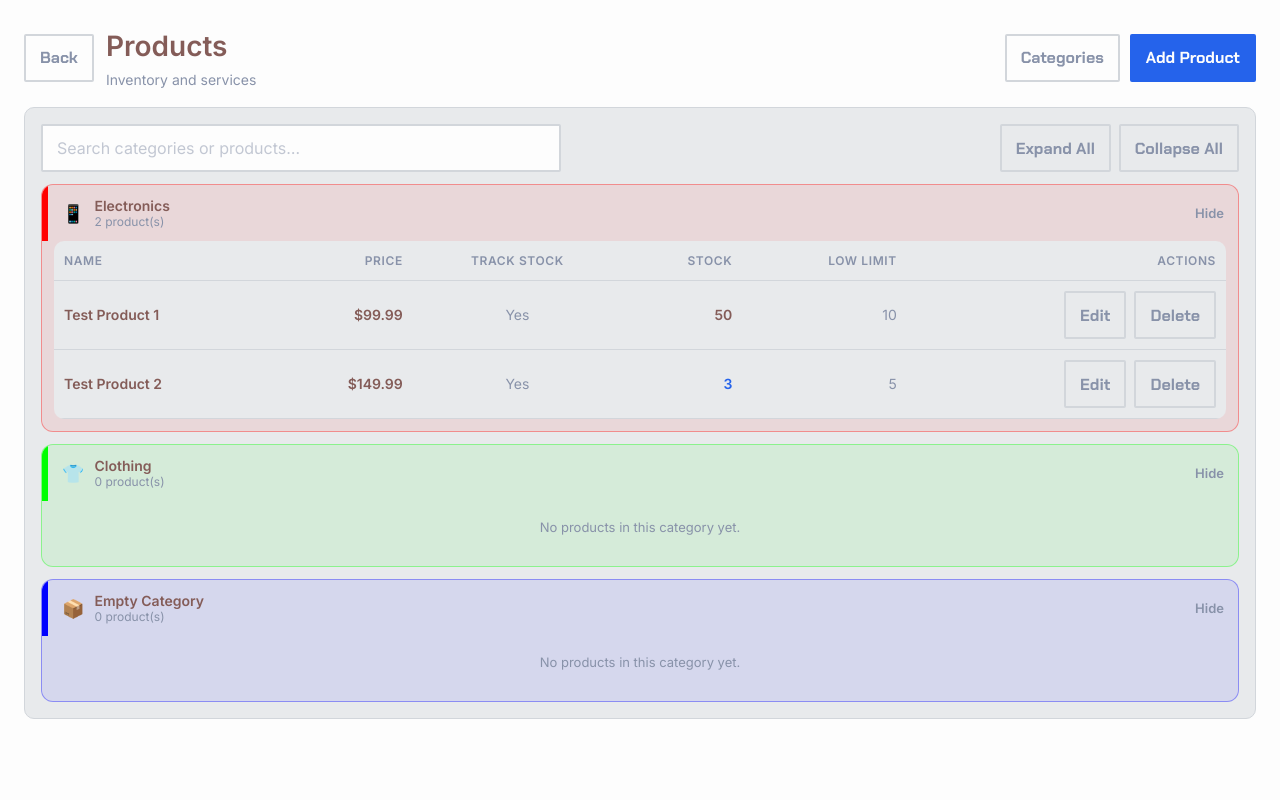
ProductsPage Component - Black Box Tests › Product Search & Filter › should show no results message when search has no matches
Type "NonExistentProduct" into the field with placeholder "Search categories or products…" at point(301, 148), box [41,124,561,172]
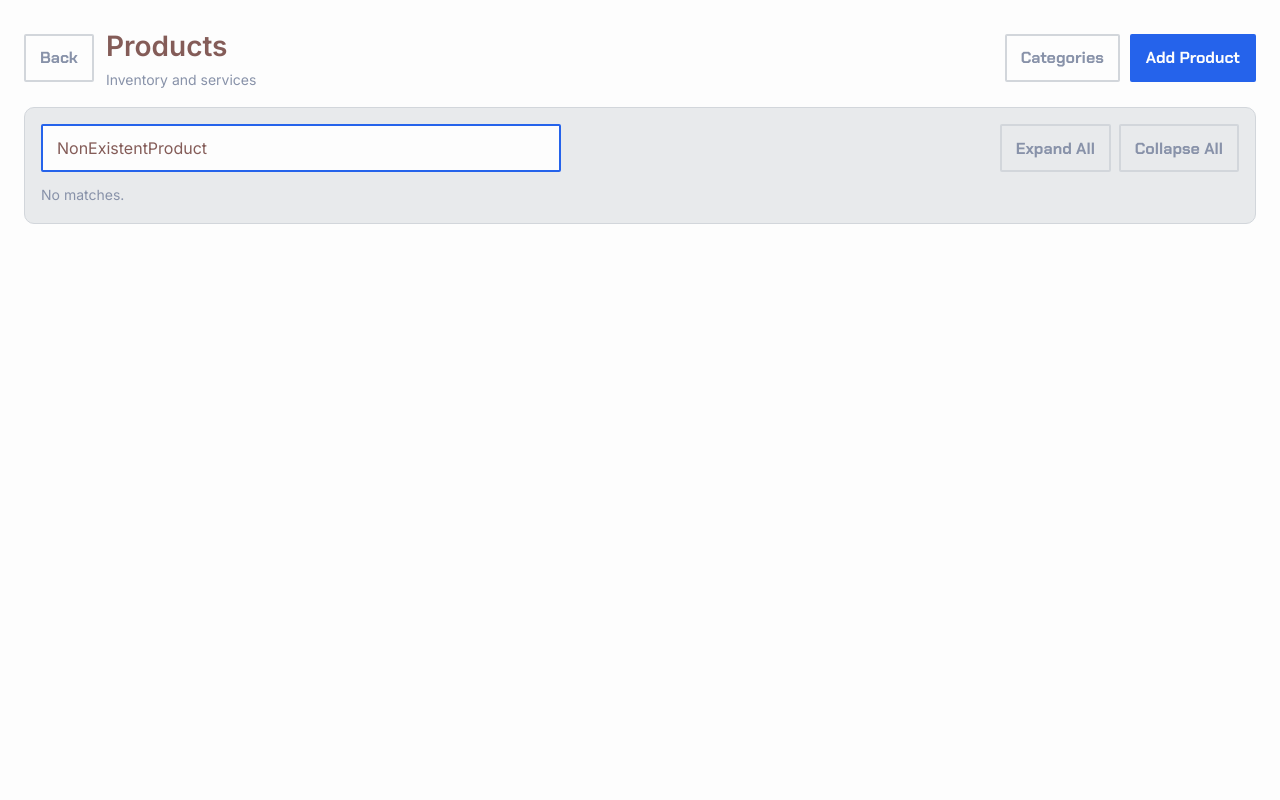
Expected: the text "No matches." is shown, [41,186,124,203]
